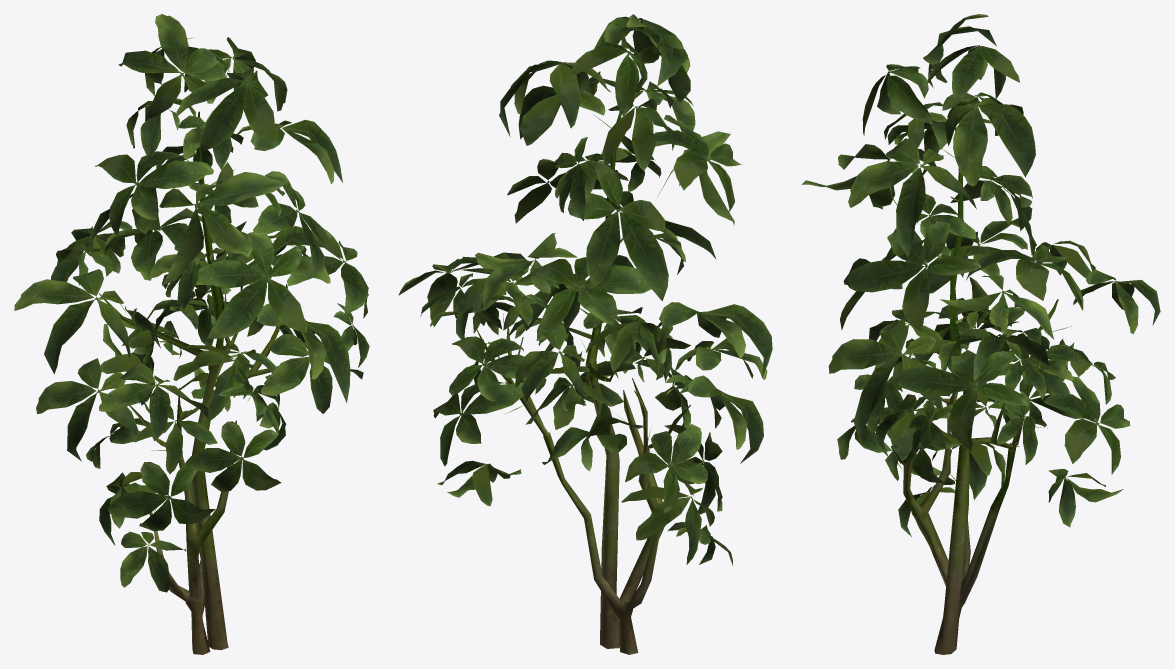
Rendered from plant-tree-lightweight-245c23dcb1.glb.
The picture shows the model from 3 angles, left to right: view 1: azimuth 30°, elevation 25°; view 2: azimuth 150°, elevation 25°; view 3: azimuth 270°, elevation 25°; orthographic projection. The views are drawn at different scales.
Parts seen in each view (by area): view 1: pachira_aquatica_01_bark_d; view 2: pachira_aquatica_01_bark_d; view 3: pachira_aquatica_01_bark_d.
Boxes of the visible parts, x1,y1,x2,y2 form: pachira_aquatica_01_bark_d: [14, 14, 369, 654]; pachira_aquatica_01_bark_d: [398, 14, 772, 654]; pachira_aquatica_01_bark_d: [801, 14, 1160, 654].
Bounding box in the file's own units: 1.06 × 1.9 × 0.9963.
Materials: 2 (2 with a texture image).
